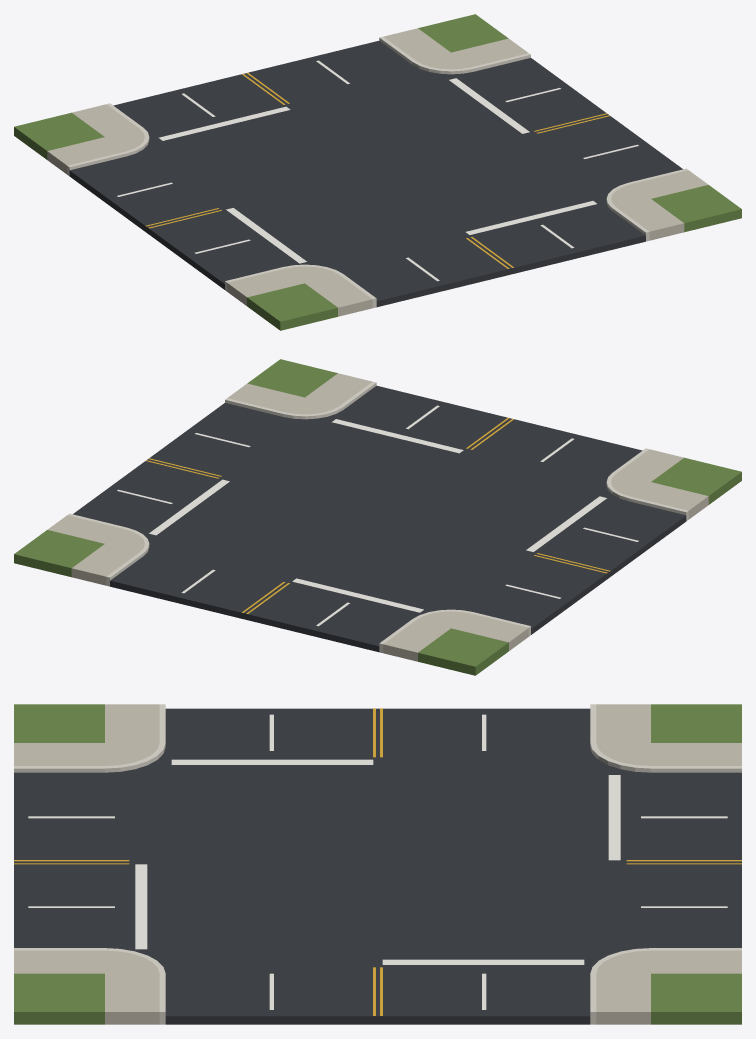
The model's file is Road_4Lane_Sidewalk_Intersection_4Way.glb.
3 renders of one model, top to bottom at view 1: azimuth 30°, elevation 25°; view 2: azimuth 150°, elevation 25°; view 3: azimuth 270°, elevation 25°, orthographic. The views are drawn at different scales.
Parts seen in each view (by area): view 1: Road_4Lane_Sidewalk_Intersection_4Way_Asphalt, Road_4Lane_Sidewalk_Intersection_4Way_Sidewalk, Road_4Lane_Sidewalk_Intersection_4Way_Grass-edge, Road_4Lane_Sidewalk_Intersection_4Way_PaintWhite, Road_4Lane_Sidewalk_Intersection_4Way_Curb, Road_4Lane_Sidewalk_Intersection_4Way_PaintYellow; view 2: Road_4Lane_Sidewalk_Intersection_4Way_Asphalt, Road_4Lane_Sidewalk_Intersection_4Way_Sidewalk, Road_4Lane_Sidewalk_Intersection_4Way_Grass-edge, Road_4Lane_Sidewalk_Intersection_4Way_PaintWhite, Road_4Lane_Sidewalk_Intersection_4Way_Curb, Road_4Lane_Sidewalk_Intersection_4Way_PaintYellow; view 3: Road_4Lane_Sidewalk_Intersection_4Way_Asphalt, Road_4Lane_Sidewalk_Intersection_4Way_Sidewalk, Road_4Lane_Sidewalk_Intersection_4Way_Grass-edge, Road_4Lane_Sidewalk_Intersection_4Way_PaintWhite, Road_4Lane_Sidewalk_Intersection_4Way_Curb, Road_4Lane_Sidewalk_Intersection_4Way_PaintYellow.
Boxes of the visible parts, left/top/right/bottom form: Road_4Lane_Sidewalk_Intersection_4Way_Asphalt: left=69, top=40, right=682, bottom=307; Road_4Lane_Sidewalk_Intersection_4Way_Sidewalk: left=47, top=28, right=708, bottom=316; Road_4Lane_Sidewalk_Intersection_4Way_Grass-edge: left=14, top=14, right=741, bottom=330; Road_4Lane_Sidewalk_Intersection_4Way_PaintWhite: left=117, top=60, right=638, bottom=281; Road_4Lane_Sidewalk_Intersection_4Way_Curb: left=67, top=37, right=688, bottom=307; Road_4Lane_Sidewalk_Intersection_4Way_PaintYellow: left=145, top=72, right=609, bottom=268; Road_4Lane_Sidewalk_Intersection_4Way_Asphalt: left=73, top=385, right=686, bottom=652; Road_4Lane_Sidewalk_Intersection_4Way_Sidewalk: left=47, top=373, right=708, bottom=661; Road_4Lane_Sidewalk_Intersection_4Way_Grass-edge: left=14, top=359, right=741, bottom=675; Road_4Lane_Sidewalk_Intersection_4Way_PaintWhite: left=117, top=405, right=638, bottom=626; Road_4Lane_Sidewalk_Intersection_4Way_Curb: left=67, top=382, right=688, bottom=652; Road_4Lane_Sidewalk_Intersection_4Way_PaintYellow: left=146, top=417, right=610, bottom=613; Road_4Lane_Sidewalk_Intersection_4Way_Asphalt: left=14, top=708, right=741, bottom=1024; Road_4Lane_Sidewalk_Intersection_4Way_Sidewalk: left=14, top=704, right=741, bottom=1024; Road_4Lane_Sidewalk_Intersection_4Way_Grass-edge: left=14, top=704, right=741, bottom=1024; Road_4Lane_Sidewalk_Intersection_4Way_PaintWhite: left=28, top=714, right=727, bottom=1009; Road_4Lane_Sidewalk_Intersection_4Way_Curb: left=14, top=704, right=741, bottom=1024; Road_4Lane_Sidewalk_Intersection_4Way_PaintYellow: left=14, top=708, right=741, bottom=1015.
Size of the model in its own units: 24 by 0.45 by 24.
